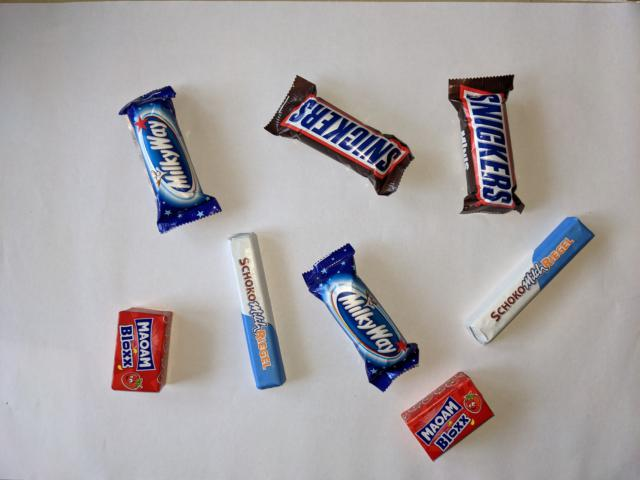MAOAM: (399, 370, 498, 464), (108, 305, 176, 397)
MilkyWay: (298, 240, 422, 395), (116, 83, 225, 235)
Schokoriegel: (458, 213, 598, 351), (223, 229, 290, 392)
Snickers: (260, 72, 417, 199), (445, 72, 528, 217)
